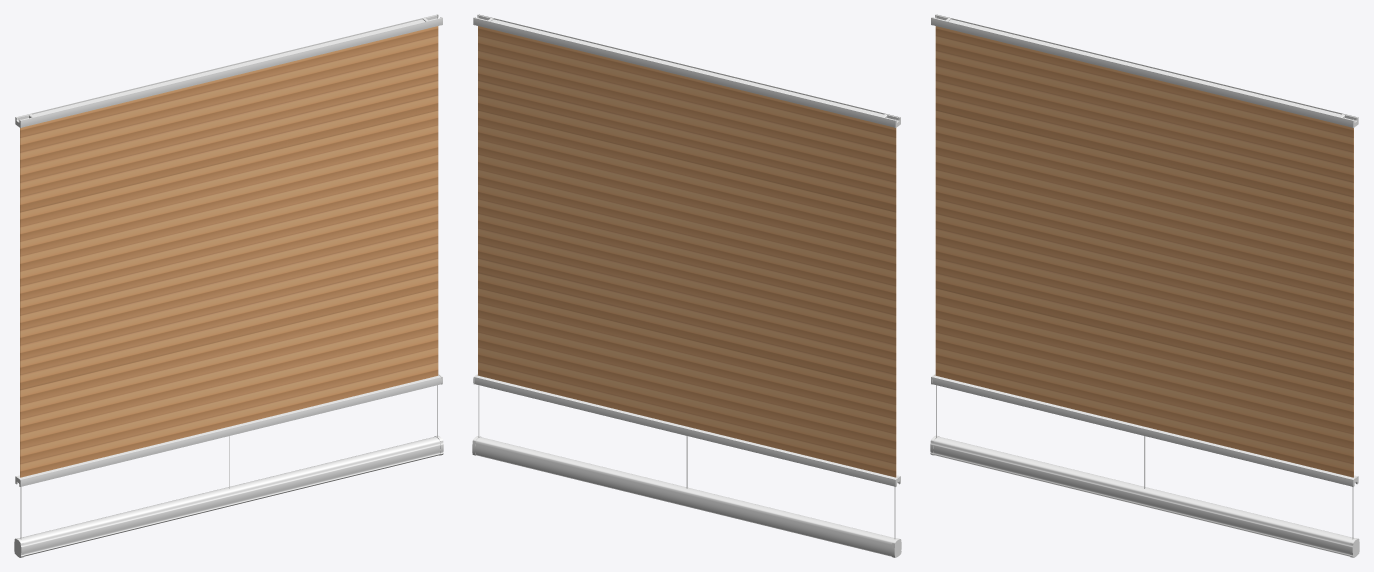
File: PLK 13.glb
3 views of the same model, side by side, from view 1: azimuth 30°, elevation 25°; view 2: azimuth 150°, elevation 25°; view 3: azimuth 330°, elevation 25° (orthographic).
Parts seen in each view (by area): view 1: Plane.002, BezierCurve.049, Cube.003, Cube.016; view 2: Plane.002, BezierCurve.049, Cube.003, Cube.016; view 3: Plane.002, BezierCurve.049, Cube.003, Cube.016.
Boxes of the visible parts, x1,y1,x2,y2 form: Plane.002: (20, 26, 438, 477); BezierCurve.049: (19, 436, 440, 556); Cube.003: (17, 14, 441, 127); Cube.016: (17, 375, 441, 486); Plane.002: (478, 26, 896, 477); BezierCurve.049: (475, 437, 896, 556); Cube.003: (474, 14, 898, 127); Cube.016: (475, 375, 898, 486); Plane.002: (935, 26, 1353, 477); BezierCurve.049: (933, 436, 1354, 556); Cube.003: (932, 14, 1356, 127); Cube.016: (932, 375, 1356, 486).
Bounding box in the file's own units: 0.9999 × 0.9898 × 0.0289.
Materials: 4 (1 with a texture image).
